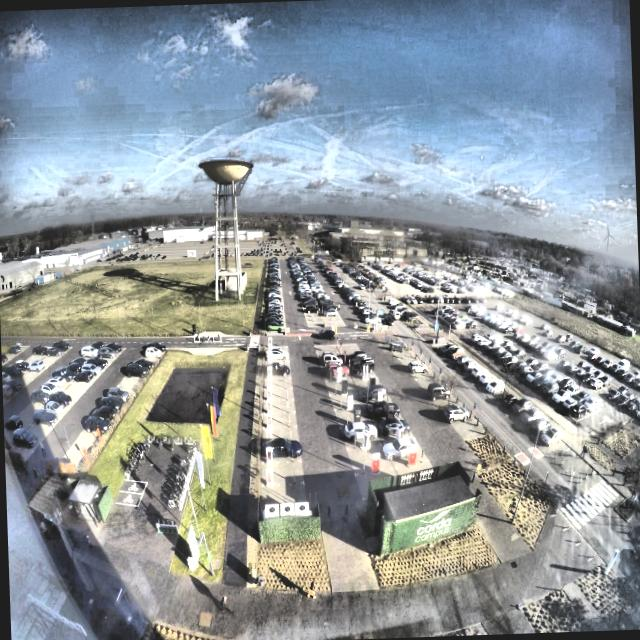cabinet: (266, 502, 308, 514)
car: (257, 436, 301, 458), (264, 361, 290, 375), (266, 344, 288, 360)
parking: (262, 460, 303, 484), (261, 484, 305, 504), (262, 442, 300, 462), (262, 425, 298, 443), (262, 410, 296, 425), (262, 397, 294, 410), (264, 365, 290, 378), (262, 386, 292, 396), (262, 378, 290, 388), (266, 353, 288, 365), (265, 346, 288, 354)
